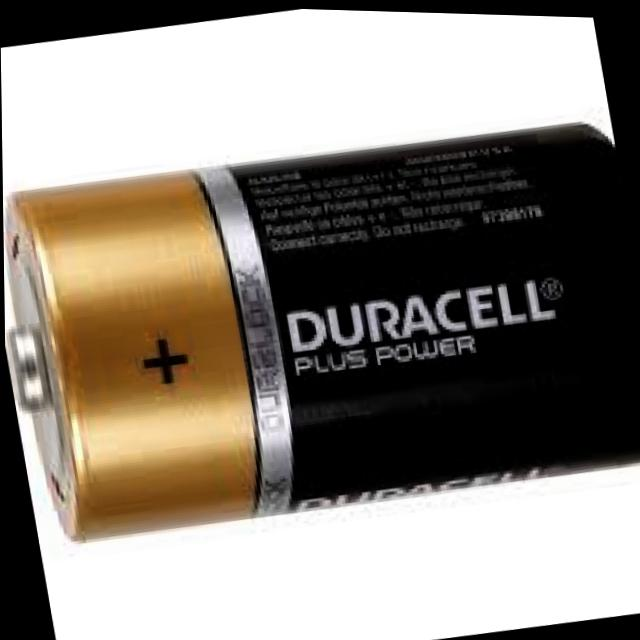B3: (0, 35, 640, 607)
